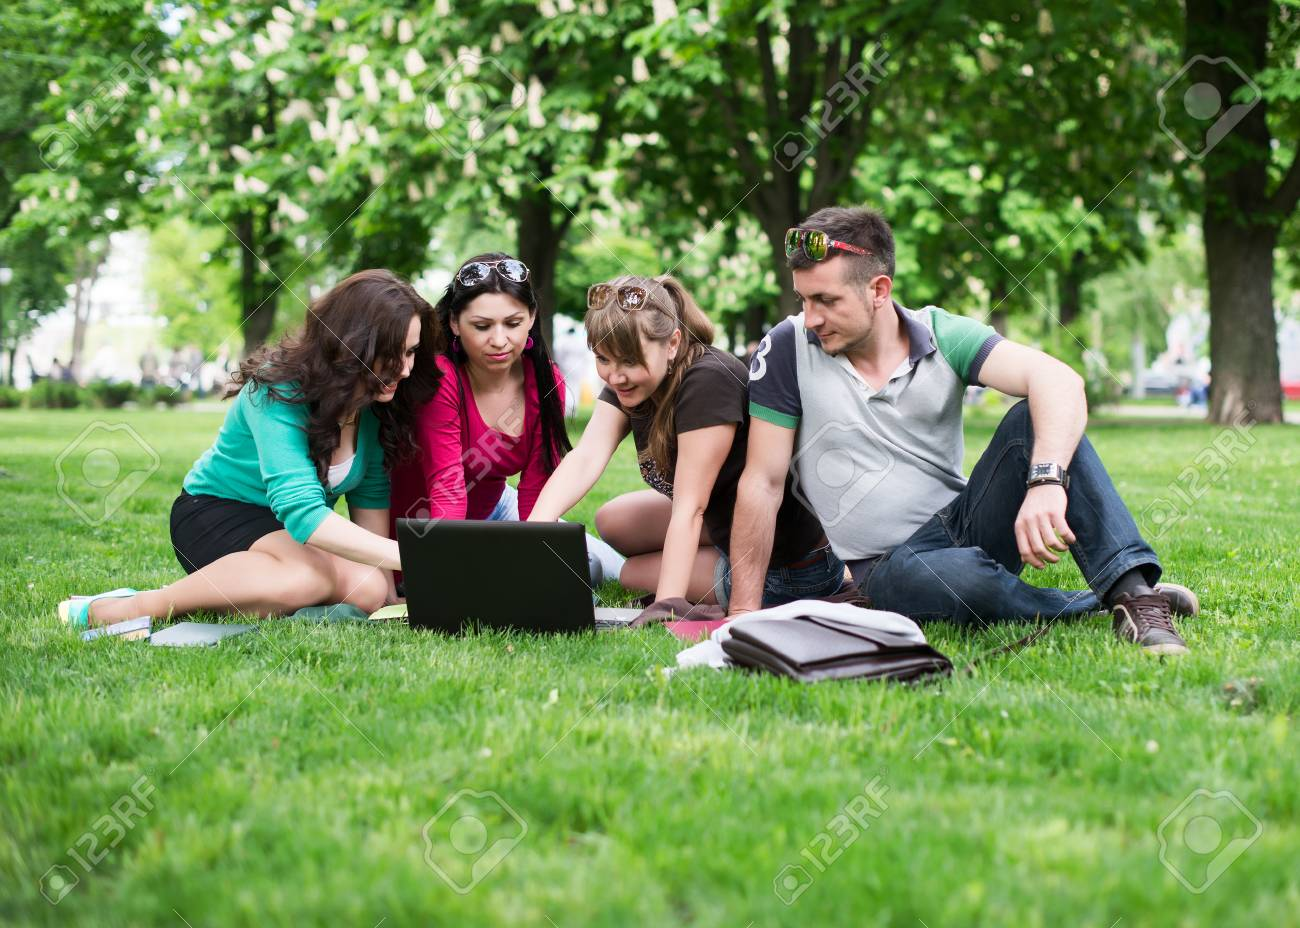Person: (736, 204, 1200, 654), (59, 263, 432, 626), (570, 272, 739, 606), (426, 253, 571, 523)
